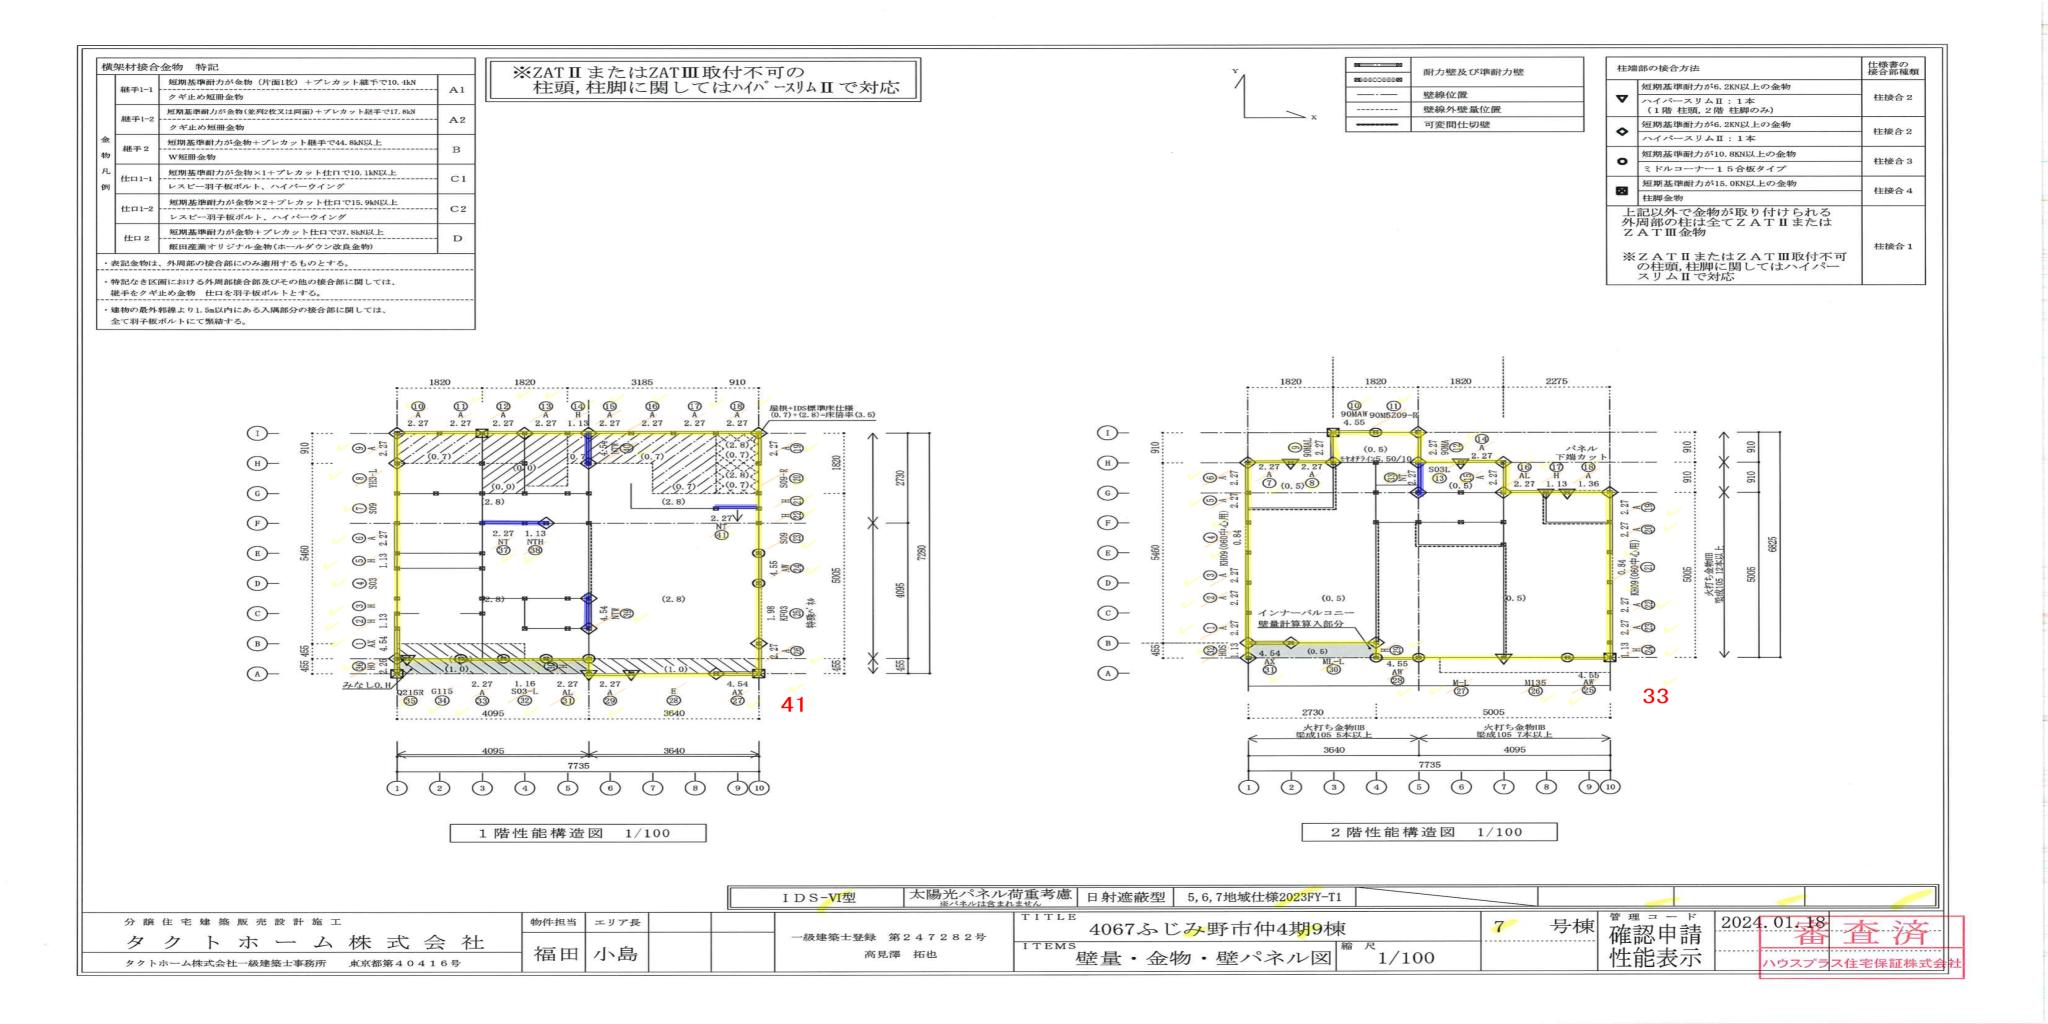CAD: (348, 398, 807, 709), (1199, 396, 1661, 698)
